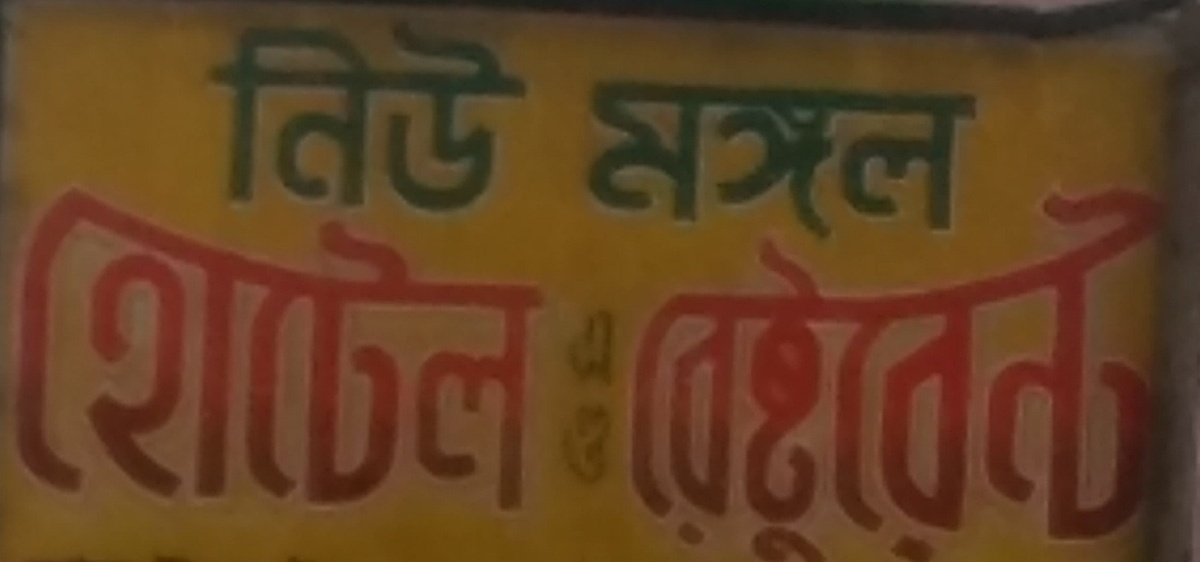text: (641, 165, 656, 561), (657, 165, 672, 561), (673, 165, 688, 561), (689, 165, 704, 561), (705, 165, 720, 561), (721, 165, 736, 561), (737, 165, 752, 561), (753, 165, 768, 561), (769, 165, 784, 561), (785, 165, 800, 561), (801, 165, 816, 561), (817, 165, 832, 561), (833, 165, 848, 561), (849, 165, 864, 561), (865, 165, 880, 561), (881, 165, 896, 561), (897, 165, 912, 561), (913, 165, 928, 561), (929, 165, 944, 561), (945, 165, 960, 561), (961, 165, 976, 561), (977, 165, 992, 561), (993, 165, 1008, 561), (1009, 165, 1024, 561), (1025, 165, 1040, 561), (1041, 165, 1056, 561), (1057, 165, 1072, 561), (1073, 165, 1088, 561), (1089, 165, 1104, 561), (1105, 165, 1120, 561), (1121, 165, 1136, 561), (1137, 165, 1152, 561), (1153, 165, 1168, 561), (33, 156, 48, 521), (49, 156, 64, 521), (65, 156, 80, 521), (81, 156, 96, 521), (97, 156, 112, 521), (113, 156, 128, 521), (129, 156, 144, 521), (145, 156, 160, 521), (161, 156, 176, 521), (177, 156, 192, 521), (193, 156, 208, 521), (209, 156, 224, 521), (225, 156, 240, 521), (241, 156, 256, 521), (257, 156, 272, 521), (273, 156, 288, 521), (289, 156, 304, 521), (305, 156, 320, 521), (321, 156, 336, 521), (337, 156, 352, 521), (353, 156, 368, 521), (369, 156, 384, 521), (385, 156, 400, 521), (401, 156, 416, 521), (417, 156, 432, 521), (433, 156, 448, 521), (449, 156, 464, 521), (465, 156, 480, 521), (481, 156, 496, 521), (497, 156, 512, 521), (513, 156, 528, 521), (529, 156, 544, 521), (545, 156, 556, 521), (22, 156, 32, 521), (209, 18, 224, 220), (225, 18, 240, 220), (241, 18, 256, 220), (257, 18, 272, 220), (273, 18, 288, 220), (289, 18, 304, 220), (305, 18, 320, 220), (321, 18, 336, 220), (337, 18, 352, 220), (353, 18, 368, 220), (369, 18, 384, 220), (385, 18, 400, 220), (401, 18, 416, 220), (417, 18, 432, 220), (433, 18, 448, 220), (449, 18, 464, 220), (465, 18, 480, 220), (481, 18, 496, 220), (497, 18, 512, 220), (513, 18, 528, 220), (577, 302, 592, 490), (593, 302, 608, 490), (609, 302, 623, 490), (593, 75, 608, 245), (609, 75, 624, 245), (625, 75, 640, 245), (641, 75, 656, 245), (657, 75, 672, 245), (673, 75, 688, 245), (689, 75, 704, 245), (705, 75, 720, 245), (721, 75, 736, 245), (737, 75, 752, 245), (753, 75, 768, 245), (769, 75, 784, 245), (785, 75, 800, 245), (801, 75, 816, 245), (817, 75, 832, 245), (833, 75, 848, 245), (849, 75, 864, 245), (865, 75, 880, 245), (881, 75, 896, 245), (897, 75, 912, 245), (913, 75, 928, 245), (929, 75, 944, 245), (945, 75, 960, 245), (961, 75, 976, 245), (565, 302, 576, 490), (529, 18, 537, 220), (1169, 165, 1173, 561), (583, 75, 592, 245), (977, 75, 983, 245), (203, 18, 208, 220)
